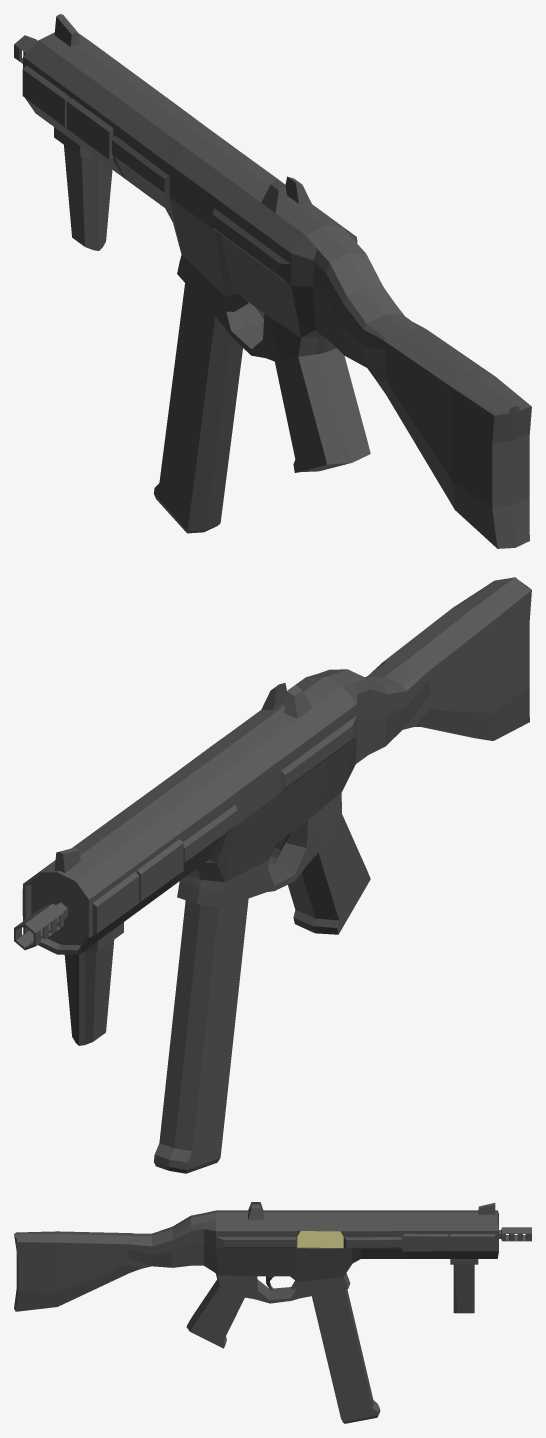
The model's file is smg2.fbx.
The picture shows the model from 3 angles, top to bottom: view 1: azimuth 30°, elevation 25°; view 2: azimuth 150°, elevation 25°; view 3: azimuth 270°, elevation 25°; orthographic projection. The views are drawn at different scales.
Parts seen in each view (by area): view 1: Cube; view 2: Cube, Cylinder; view 3: Cube, Cylinder.
Part boxes in pixels (x1,y1,x2,y2): Cube: [22, 14, 531, 548]; Cube: [22, 577, 531, 1173]; Cylinder: [14, 902, 67, 950]; Cube: [14, 1202, 498, 1423]; Cylinder: [499, 1227, 531, 1241].
Bounding box in the file's own units: 87.51 × 464 × 1000.
